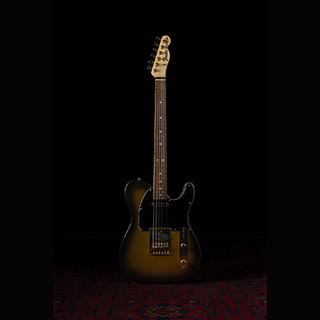Fender Telecaster: (113, 30, 206, 286)
SS: (148, 200, 175, 249)
